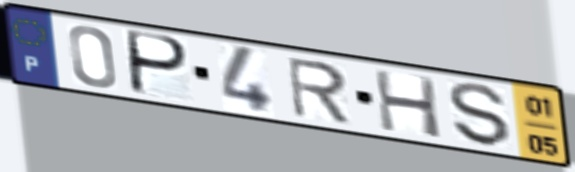0: (65, 24, 120, 90)
4: (218, 42, 276, 118)
H: (370, 66, 446, 141)
P: (126, 28, 193, 99)
R: (283, 55, 354, 127)
S: (446, 80, 515, 150)
